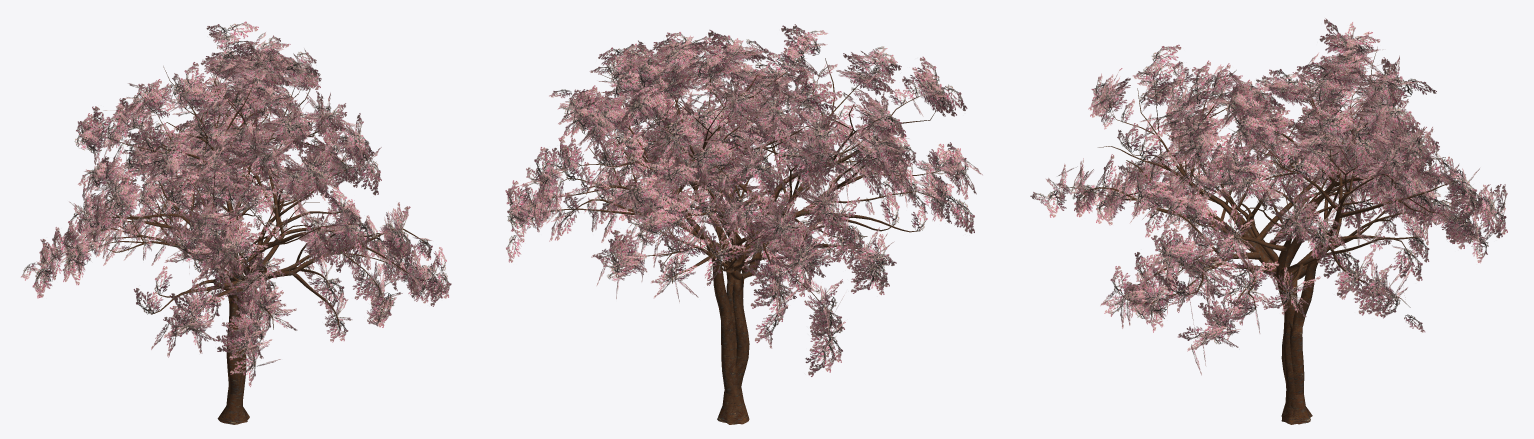
Rendered from Cherry3.gltf.
3 renders of one model, left to right at view 1: azimuth 30°, elevation 25°; view 2: azimuth 150°, elevation 25°; view 3: azimuth 270°, elevation 25°, orthographic. The views are drawn at different scales.
Visible parts, largest first — view 1: cherry_3_Tree_1Mat_0, cherry_3_Tree_0Mat_0; view 2: cherry_3_Tree_1Mat_0, cherry_3_Tree_0Mat_0; view 3: cherry_3_Tree_1Mat_0, cherry_3_Tree_0Mat_0.
Boxes of the visible parts, x1,y1,x2,y2 form: cherry_3_Tree_1Mat_0: [20, 21, 451, 386]; cherry_3_Tree_0Mat_0: [41, 49, 439, 424]; cherry_3_Tree_1Mat_0: [505, 24, 982, 376]; cherry_3_Tree_0Mat_0: [523, 41, 954, 424]; cherry_3_Tree_1Mat_0: [1030, 18, 1507, 375]; cherry_3_Tree_0Mat_0: [1051, 47, 1503, 424].
Size of the model in its own units: 171 by 177 by 208.
2 materials, 2 textured.
